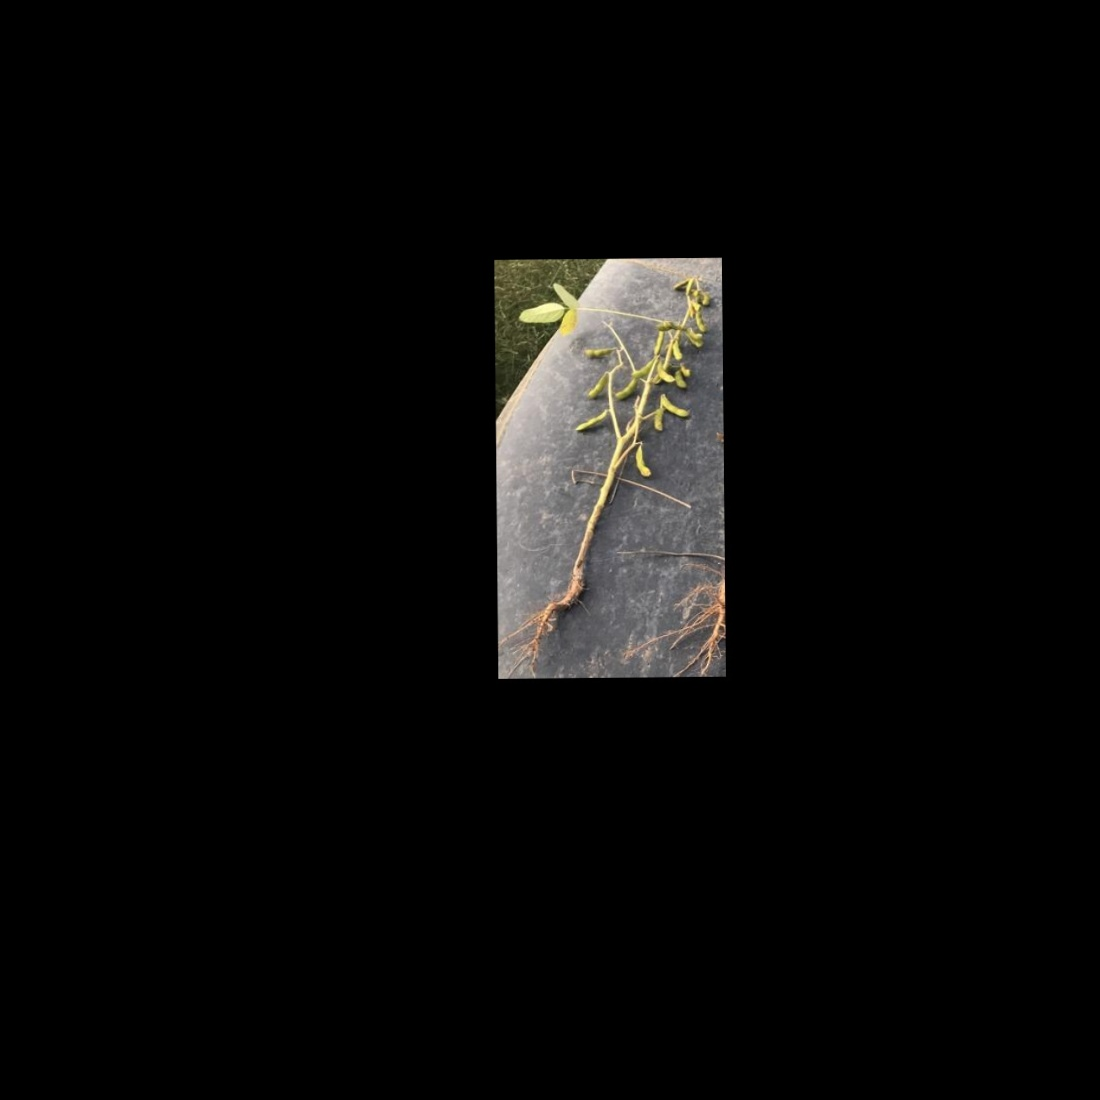pod: (632, 439, 658, 479), (583, 367, 608, 402), (573, 406, 609, 430), (662, 393, 691, 419), (626, 355, 658, 377), (611, 376, 639, 402), (577, 342, 618, 360), (649, 329, 666, 358), (670, 338, 686, 363), (651, 408, 665, 435), (695, 312, 711, 334)
soy: (515, 265, 715, 647)
